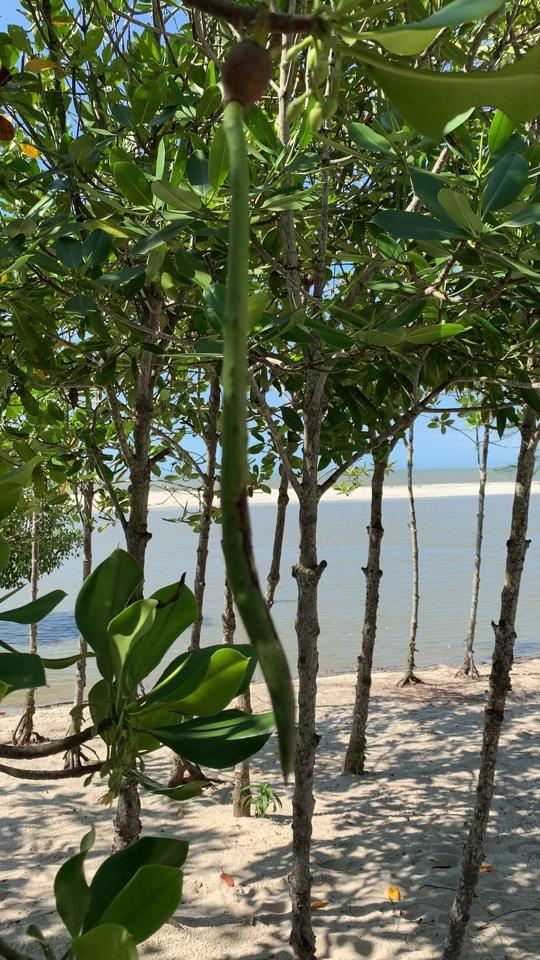setengah matang: (197, 30, 311, 789)
